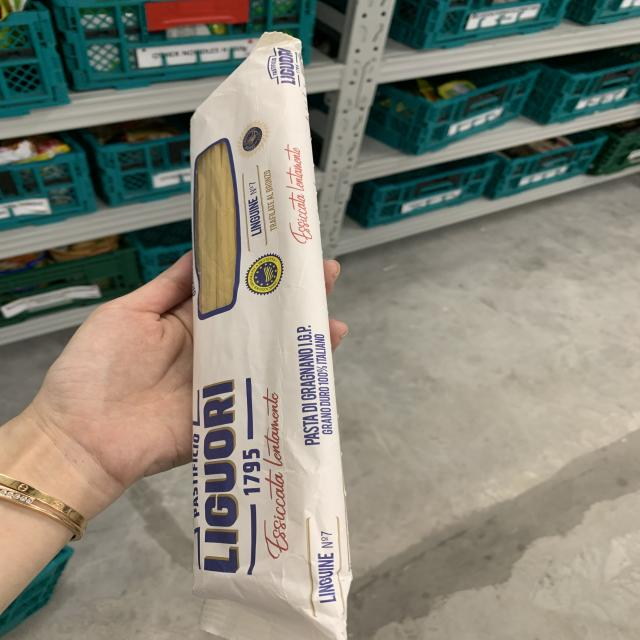object_name: (184, 59, 347, 635)
